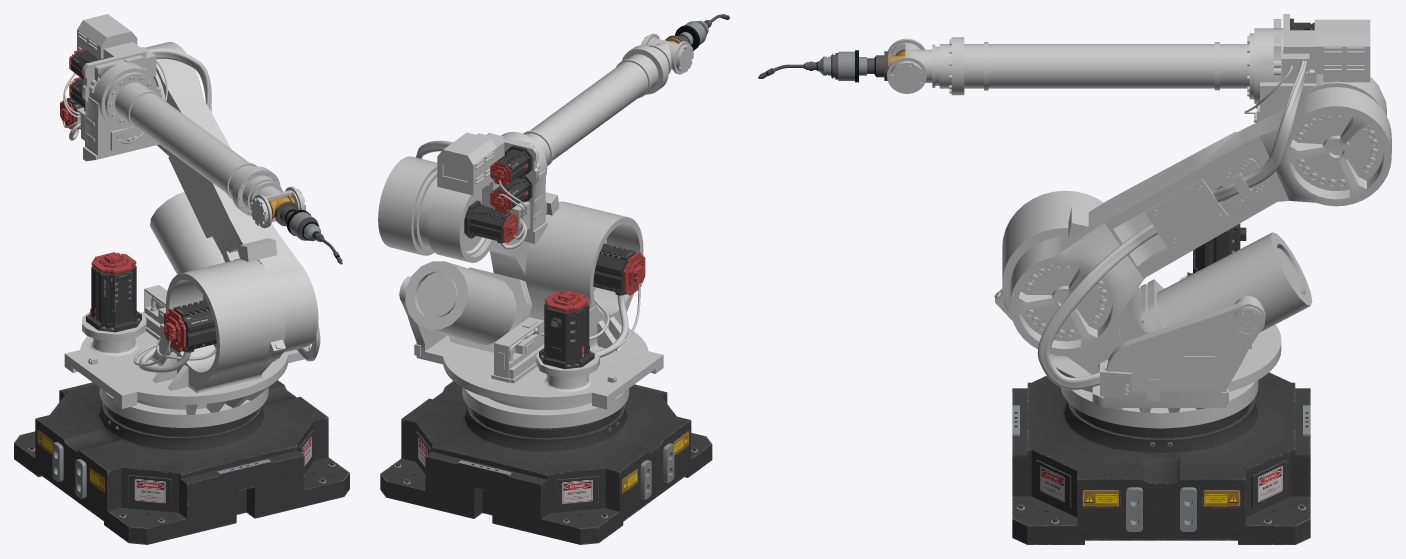
The picture shows the model from 3 angles, left to right: view 1: azimuth 30°, elevation 25°; view 2: azimuth 150°, elevation 25°; view 3: azimuth 270°, elevation 25°; orthographic projection. The views are drawn at different scales.
Parts seen in each view (by area): view 1: foundation_low, Base_low, arm2_low, arm_low, engine2_low, BigCyl_low, engine_low, electricbox_low, Tool_low, BigWire_low, prop_low, decal3_low (+3 smaller); view 2: foundation_low, Base_low, arm2_low, BigCyl_low, arm_low, engine2_low, electricbox_low, prop_low, engine_low, engine5_low, decal3_low, engine3_low (+3 smaller); view 3: foundation_low, arm_low, arm2_low, Base_low, BigCyl_low, BigWire_low, decal4_low, electricbox_low, Tool_low, engine2_low, screw4_low, decal3_low (+3 smaller).
Boxes of the visible parts, <box> form: foundation_low: <box>14,380,349,544</box>; Base_low: <box>64,259,310,427</box>; arm2_low: <box>76,42,305,228</box>; arm_low: <box>146,42,318,352</box>; engine2_low: <box>86,252,141,332</box>; BigCyl_low: <box>150,192,224,274</box>; engine_low: <box>164,299,216,352</box>; electricbox_low: <box>77,14,137,58</box>; Tool_low: <box>275,201,342,264</box>; BigWire_low: <box>148,48,320,361</box>; prop_low: <box>141,285,167,340</box>; decal3_low: <box>88,313,188,390</box>; foundation_low: <box>380,381,712,544</box>; Base_low: <box>400,201,663,428</box>; arm2_low: <box>413,33,693,262</box>; BigCyl_low: <box>405,261,531,352</box>; arm_low: <box>378,156,559,281</box>; engine2_low: <box>539,290,594,369</box>; electricbox_low: <box>437,132,496,195</box>; prop_low: <box>491,317,544,383</box>; engine_low: <box>593,243,645,295</box>; engine5_low: <box>464,200,517,243</box>; decal3_low: <box>414,306,629,382</box>; engine3_low: <box>490,145,532,185</box>; foundation_low: <box>1012,372,1310,544</box>; arm_low: <box>1010,87,1391,374</box>; arm2_low: <box>887,14,1386,122</box>; Base_low: <box>994,190,1281,428</box>; BigCyl_low: <box>1138,232,1312,336</box>; BigWire_low: <box>1037,60,1307,389</box>; decal4_low: <box>1145,158,1268,249</box>; electricbox_low: <box>1314,19,1370,82</box>; Tool_low: <box>758,50,888,82</box>; engine2_low: <box>1187,223,1246,276</box>; screw4_low: <box>1296,113,1378,186</box>; decal3_low: <box>1138,287,1228,404</box>.
Bounding box in the file's own units: 0.5621 × 0.9168 × 1.15.
